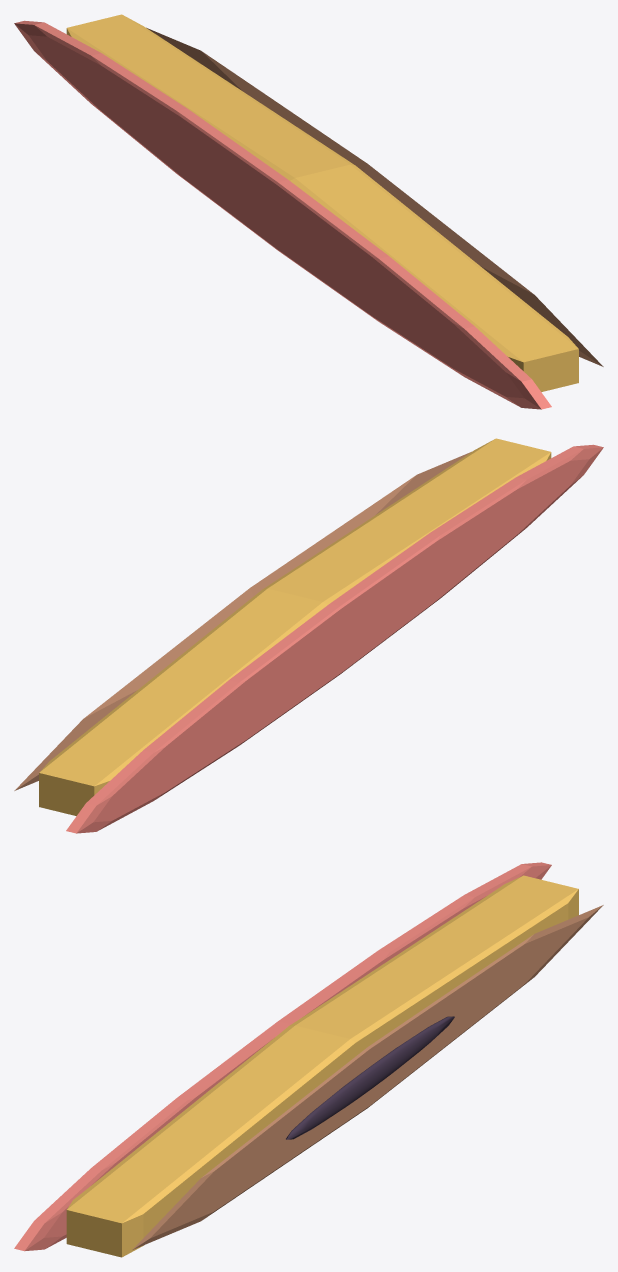
The model's file is pencil.glb.
3 views of the same model, one above another, from view 1: azimuth 30°, elevation 25°; view 2: azimuth 150°, elevation 25°; view 3: azimuth 330°, elevation 25° (orthographic).
Visible parts, largest first — view 1: model; view 2: model; view 3: model.
Part boxes in pixels (x1,y1,x2,y2): model: (14, 14, 603, 409); model: (14, 438, 603, 833); model: (14, 862, 603, 1257).
Size of the model in its own units: 0.03 by 0.02 by 0.28.
